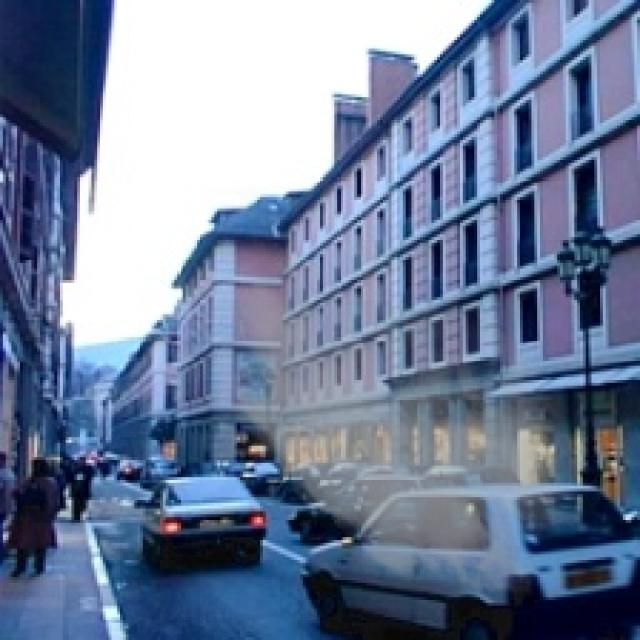smoke: (186, 188, 600, 608)
